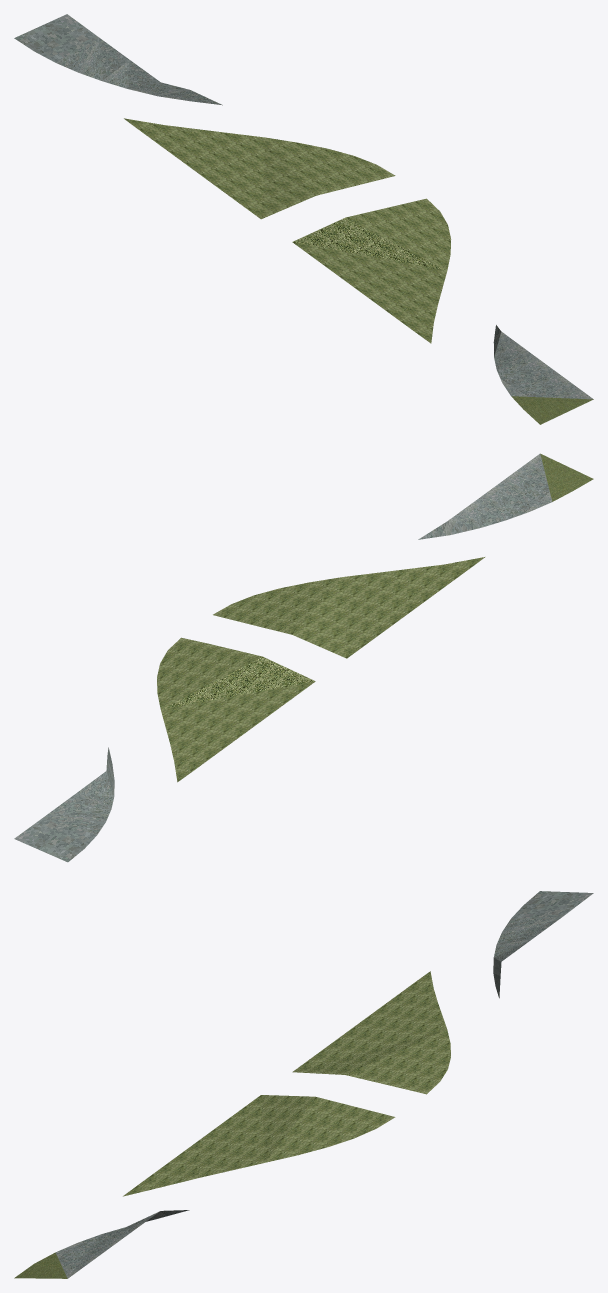
Rendered from lodasn_nland2.obj.
3 views of the same model, one above another, from view 1: azimuth 30°, elevation 25°; view 2: azimuth 150°, elevation 25°; view 3: azimuth 330°, elevation 25° (orthographic).
Parts seen in each view (by area): view 1: lodasn_nland2; view 2: lodasn_nland2; view 3: lodasn_nland2.
Part boxes in pixels (bbox=[...]): lodasn_nland2: bbox=[14, 14, 593, 424]; lodasn_nland2: bbox=[14, 453, 593, 862]; lodasn_nland2: bbox=[14, 891, 593, 1278].
Size of the model in its own units: 50.23 by 4.58 by 340.
3 materials, 3 textured.
